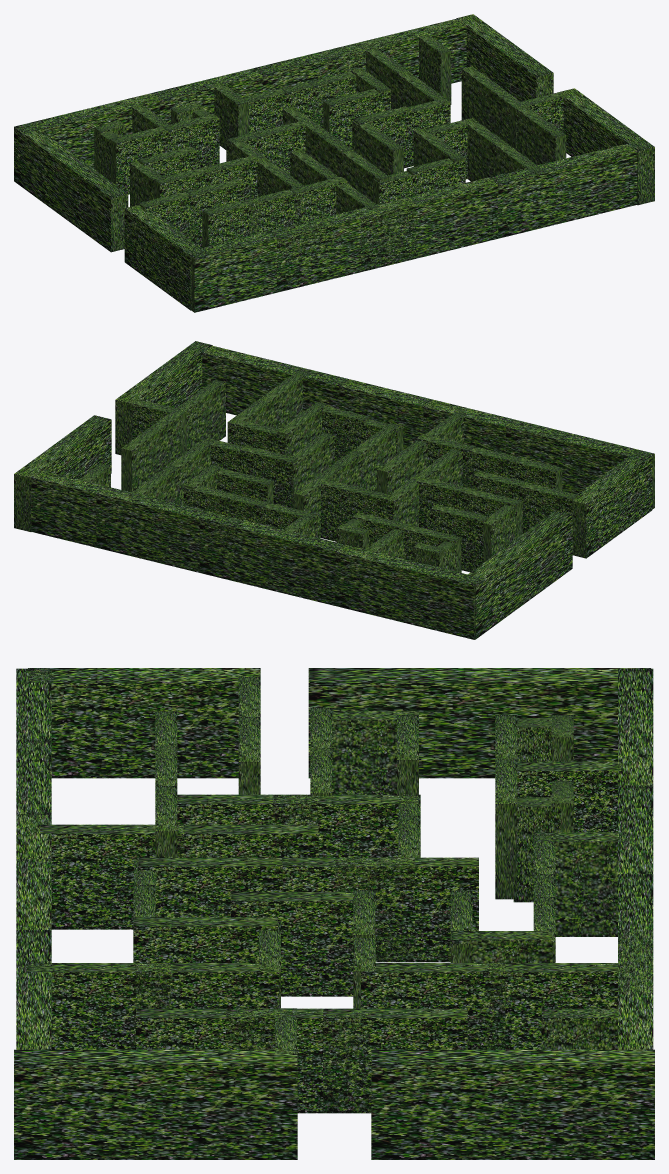
File: laberinto.fbx
3 views of the same model, one above another, from view 1: azimuth 30°, elevation 25°; view 2: azimuth 150°, elevation 25°; view 3: azimuth 270°, elevation 25° (orthographic). The views are drawn at different scales.
Parts seen in each view (by area): view 1: Cube_2, Cube_31, Cube_30, Cube_6, Cube_4, Cube_5, Cube, Cube_1, Cube_7, Cube_9, Cube_29, Cube_8 (+45 smaller); view 2: Cube_9, Cube_8, Cube_29, Cube_6, Cube_5, Cube_2, Cube_4, Cube_7, Cube_1, Cube, Cube_30, Cube_31 (+45 smaller); view 3: Cube_1, Cube, Cube_6, Cube_5, Cube_45, Cube_21, Cube_13, Cube_19, Cube_16, Cube_15, Cube_28, Cube_27 (+44 smaller).
Part boxes in pixels (x1,y1,x2,y2): Cube_2: (490,143,636,238); Cube_31: (267,197,415,292); Cube_30: (352,177,497,271); Cube_6: (14,127,128,252); Cube_4: (186,218,333,312); Cube_5: (124,205,207,310); Cube: (557,88,654,205); Cube_1: (456,14,553,101); Cube_7: (318,18,466,83); Cube_9: (14,93,162,168); Cube_29: (253,34,401,92); Cube_8: (153,61,285,124); Cube_9: (335,544,483,639); Cube_8: (199,511,347,605); Cube_29: (96,488,243,572); Cube_6: (467,510,572,639); Cube_5: (572,452,652,558); Cube_2: (202,345,350,415); Cube_4: (505,420,654,509); Cube_7: (31,470,180,564); Cube_1: (14,415,111,531); Cube: (115,341,212,455); Cube_30: (339,379,455,449); Cube_31: (423,399,571,453); Cube_1: (371,1049,654,1159); Cube: (14,1049,297,1159); Cube_6: (308,668,650,778); Cube_5: (28,668,260,778); Cube_45: (40,824,184,929); Cube_21: (26,963,170,1049); Cube_13: (323,1008,467,1113); Cube_19: (230,892,353,996); Cube_16: (361,963,505,1049); Cube_15: (485,963,629,1049); Cube_28: (334,857,478,962); Cube_27: (271,857,414,962).
Size of the model in its own units: 1818 by 222 by 1242.
Materials: 1 (1 with a texture image).
